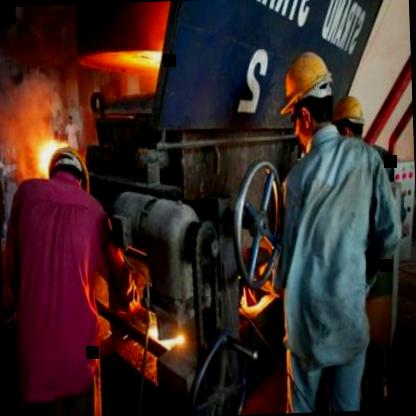helmet: (279, 44, 336, 149), (35, 138, 92, 211), (333, 96, 366, 142)
